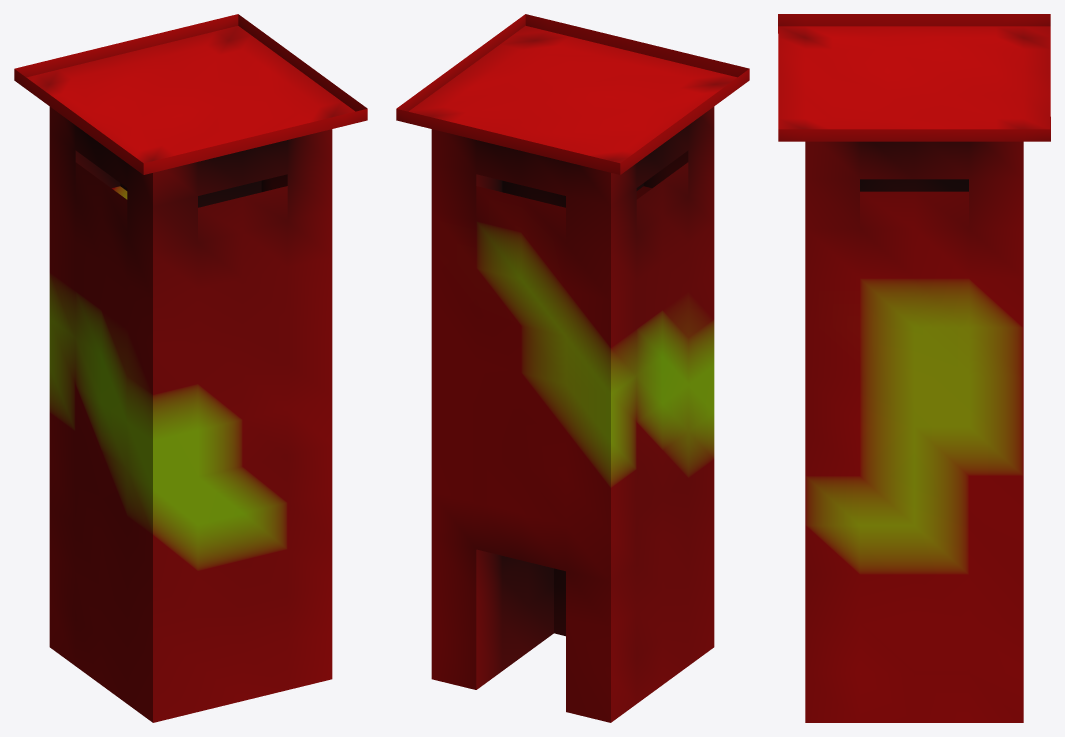
The model's file is concrete_watchtower.obj.
3 renders of one model, left to right at view 1: azimuth 30°, elevation 25°; view 2: azimuth 150°, elevation 25°; view 3: azimuth 270°, elevation 25°, orthographic. The views are drawn at different scales.
Visible parts, largest first — view 1: Watchtower; view 2: Watchtower; view 3: Watchtower.
Boxes of the visible parts, left/top/right/bottom form: Watchtower: left=14, top=14, right=367, bottom=722; Watchtower: left=396, top=14, right=749, bottom=722; Watchtower: left=778, top=14, right=1050, bottom=722.
Size of the model in its own units: 5 by 12.25 by 5.
